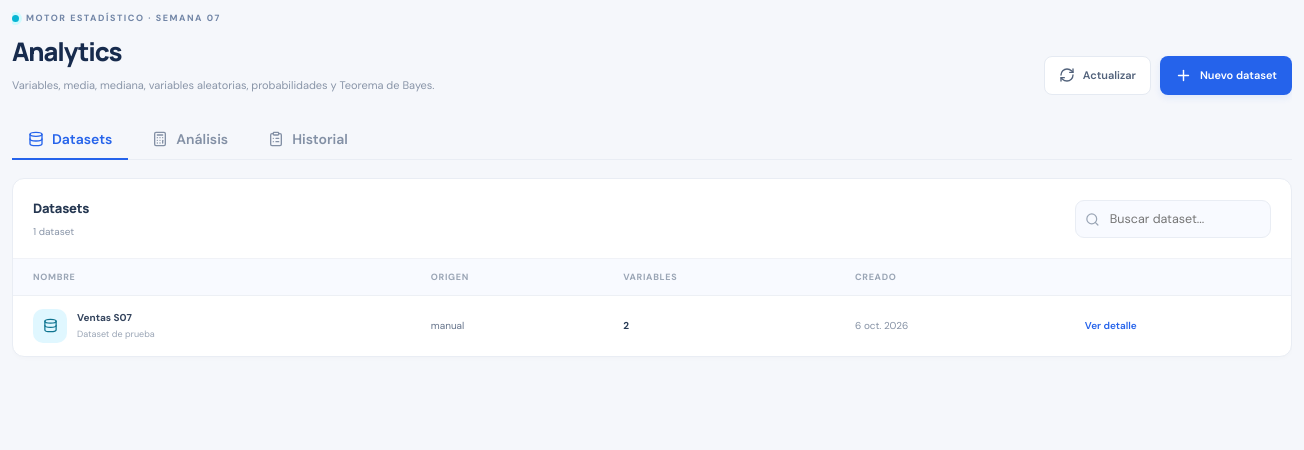
Test: AnalyticsPage › lista datasets y abre el detalle con sus variables clasificadas
This screenshot has width=1304, height=450.
Click the button "Ver detalle" at (1111, 326), box [1085,314,1137,337]
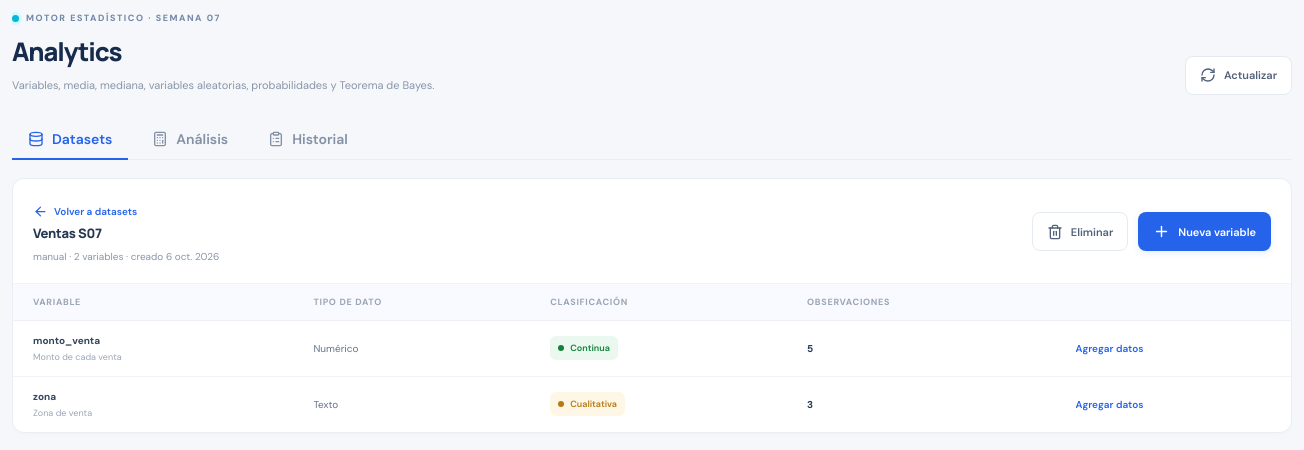
Expected: the text "monto_venta" is shown, [33,334,100,347]
Expected: the text "zona" is shown, [33,390,56,403]
Expected: the text "Continua" is shown, [550,336,618,360]
